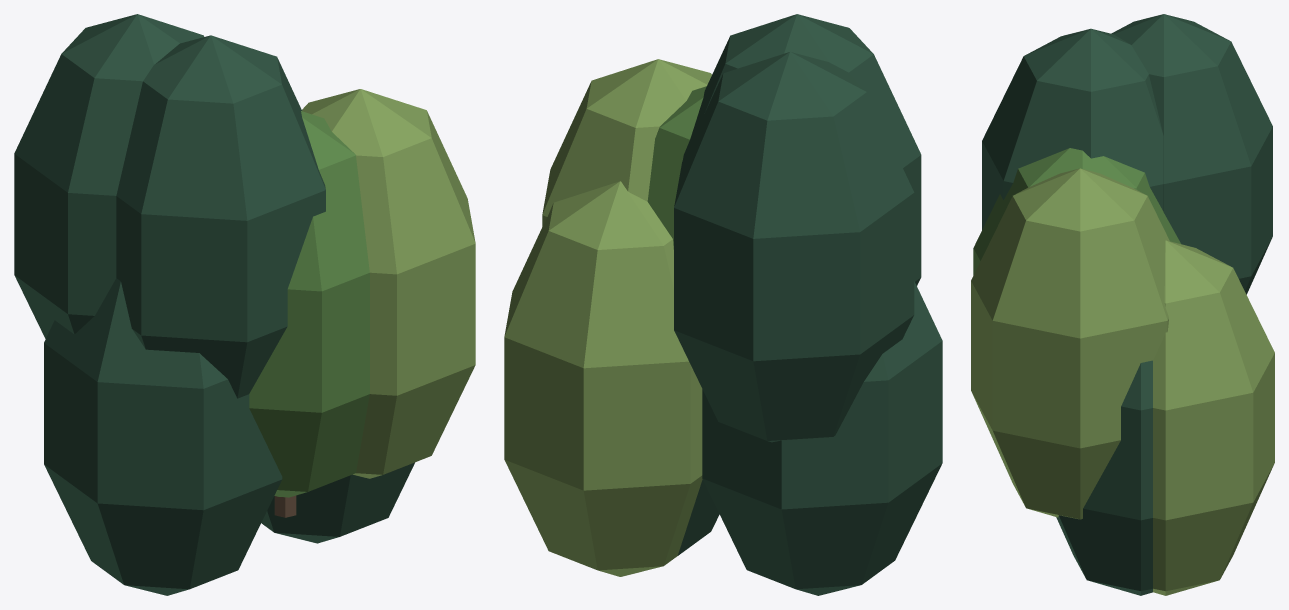
Rendered from nature-thorn-bush.lod0.glb.
3 renders of one model, left to right at view 1: azimuth 30°, elevation 25°; view 2: azimuth 150°, elevation 25°; view 3: azimuth 270°, elevation 25°, orthographic. The views are drawn at different scales.
Visible parts, largest first — view 1: nature-thorn-bush__body; view 2: nature-thorn-bush__body; view 3: nature-thorn-bush__body.
Boxes of the visible parts, left/top/right/bottom form: nature-thorn-bush__body: left=14, top=14, right=475, bottom=595; nature-thorn-bush__body: left=504, top=14, right=942, bottom=595; nature-thorn-bush__body: left=971, top=14, right=1274, bottom=595.
Size of the model in its own units: 1.42 by 2 by 1.08.
